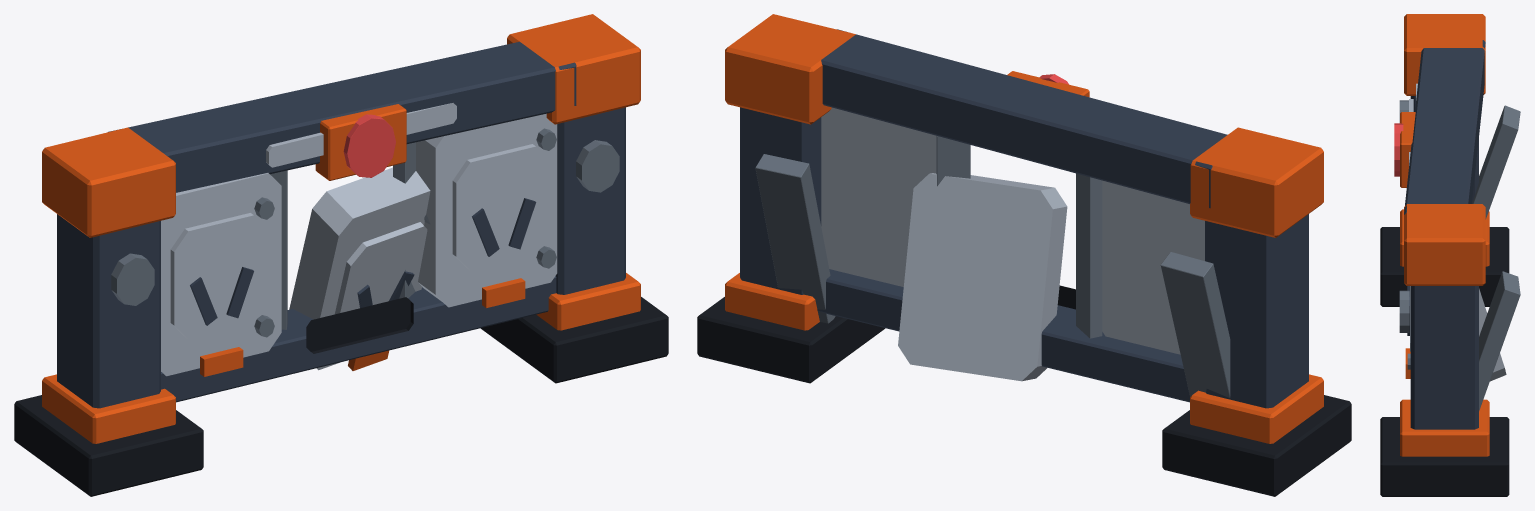
Rendered from barricade__critical.glb.
3 views of the same model, side by side, from view 1: azimuth 30°, elevation 25°; view 2: azimuth 150°, elevation 25°; view 3: azimuth 270°, elevation 25° (orthographic). The views are drawn at different scales.
Visible parts, largest first — view 1: ROLE_primary, ROLE_secondary, ROLE_accent, ROLE_rubber, ROLE_bareMetal, ROLE_critical; view 2: ROLE_primary, ROLE_secondary, ROLE_accent, ROLE_bareMetal, ROLE_rubber; view 3: ROLE_primary, ROLE_accent, ROLE_rubber, ROLE_bareMetal, ROLE_secondary, ROLE_critical.
Part boxes in pixels (bbox=[...]): ROLE_primary: bbox=[57, 41, 625, 408]; ROLE_secondary: bbox=[161, 103, 557, 376]; ROLE_accent: bbox=[42, 14, 640, 443]; ROLE_rubber: bbox=[14, 297, 668, 496]; ROLE_bareMetal: bbox=[111, 128, 619, 337]; ROLE_critical: bbox=[343, 114, 395, 177]; ROLE_primary: bbox=[740, 29, 1308, 408]; ROLE_secondary: bbox=[821, 107, 1204, 381]; ROLE_accent: bbox=[725, 14, 1323, 443]; ROLE_bareMetal: bbox=[755, 135, 1230, 397]; ROLE_rubber: bbox=[697, 285, 1351, 496]; ROLE_primary: bbox=[1404, 40, 1485, 429]; ROLE_accent: bbox=[1400, 14, 1489, 456]; ROLE_rubber: bbox=[1380, 227, 1509, 496]; ROLE_bareMetal: bbox=[1399, 100, 1520, 410]; ROLE_secondary: bbox=[1409, 83, 1506, 381]; ROLE_critical: bbox=[1394, 123, 1403, 176].
Size of the model in its own units: 8 by 4 by 2.
